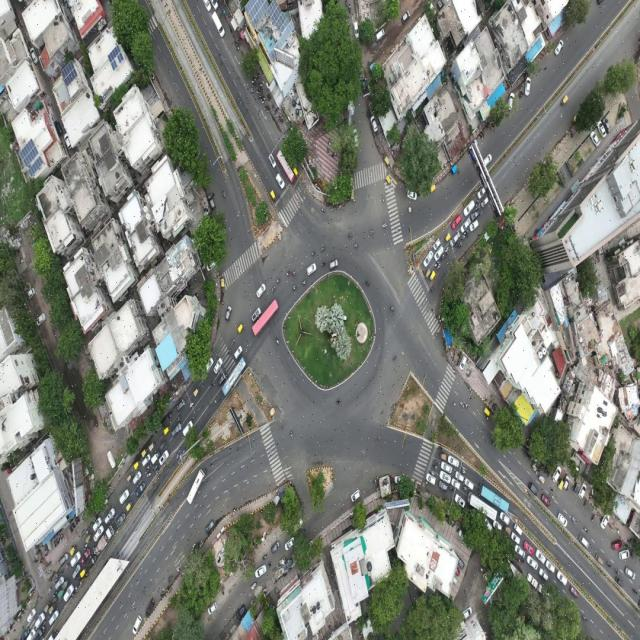3W: (592, 551, 606, 568), (383, 151, 392, 174), (502, 522, 513, 538), (558, 94, 570, 108), (61, 576, 71, 592), (78, 564, 88, 580), (84, 530, 94, 546), (235, 321, 246, 335), (125, 498, 134, 514), (148, 439, 157, 455), (268, 187, 277, 203), (572, 110, 581, 126), (571, 479, 580, 495), (70, 543, 81, 556), (427, 182, 438, 195), (437, 450, 448, 463), (47, 602, 57, 616), (291, 164, 301, 178), (140, 446, 149, 461), (450, 162, 459, 177), (125, 471, 135, 484), (158, 438, 168, 451), (429, 269, 437, 285), (133, 457, 142, 471), (443, 231, 452, 244), (44, 600, 52, 614), (481, 406, 491, 417), (56, 588, 65, 600), (384, 174, 393, 186), (425, 264, 431, 282), (163, 424, 171, 437), (557, 478, 564, 491), (192, 387, 201, 397), (221, 274, 226, 291)
Bus: (248, 294, 282, 341), (218, 350, 248, 403), (478, 476, 510, 515), (466, 487, 498, 524), (184, 464, 206, 510), (274, 147, 296, 186)
Cars: (454, 493, 469, 515), (576, 530, 590, 551), (462, 198, 477, 217), (348, 486, 363, 505), (116, 488, 130, 508), (522, 538, 536, 558), (624, 564, 638, 583), (422, 246, 434, 268), (62, 583, 75, 603), (451, 477, 466, 494), (556, 568, 568, 589), (131, 614, 142, 636), (105, 506, 117, 526), (274, 170, 286, 190), (553, 37, 565, 57), (596, 119, 608, 139), (600, 508, 610, 532), (498, 509, 512, 526), (157, 449, 170, 467), (450, 212, 463, 230), (183, 419, 194, 440), (145, 597, 156, 618), (351, 127, 361, 150), (506, 90, 516, 113), (93, 523, 105, 542), (545, 559, 557, 578), (538, 563, 550, 582), (525, 554, 539, 570), (557, 509, 568, 529), (48, 608, 60, 626), (250, 306, 262, 324), (255, 282, 267, 300), (351, 16, 360, 40), (399, 8, 411, 26), (449, 230, 461, 248), (458, 352, 468, 373), (577, 480, 587, 501), (438, 469, 452, 484), (541, 491, 552, 510), (34, 624, 47, 640), (374, 27, 387, 43), (617, 546, 630, 562), (359, 72, 368, 95), (460, 217, 472, 234), (433, 245, 445, 262), (534, 547, 546, 564), (510, 530, 522, 547), (207, 191, 217, 211), (369, 114, 379, 134), (552, 465, 562, 485), (80, 547, 91, 565), (115, 512, 126, 530), (214, 354, 223, 376), (283, 538, 297, 552), (254, 564, 267, 579), (305, 262, 318, 277), (70, 550, 82, 566), (170, 422, 182, 438), (406, 186, 418, 202), (589, 132, 601, 148), (568, 584, 580, 600), (448, 453, 460, 469), (425, 471, 437, 487), (204, 355, 214, 374), (602, 115, 612, 134), (26, 606, 37, 623), (482, 151, 493, 168), (468, 219, 481, 233), (610, 538, 623, 552), (514, 544, 527, 558), (454, 470, 467, 484), (93, 514, 103, 532), (217, 371, 227, 389), (271, 538, 281, 556), (223, 305, 233, 323), (514, 521, 524, 539), (441, 459, 453, 474), (35, 612, 46, 628), (54, 574, 65, 590), (59, 552, 70, 568), (207, 601, 218, 617), (528, 481, 539, 497), (136, 481, 146, 498), (476, 186, 488, 200), (480, 196, 492, 210), (437, 478, 449, 492), (464, 477, 475, 492), (268, 152, 277, 170), (132, 470, 142, 486), (205, 519, 215, 535), (237, 604, 247, 620), (433, 236, 443, 252), (19, 626, 30, 640), (87, 554, 98, 568), (524, 76, 531, 97), (563, 473, 570, 494), (25, 628, 37, 640), (72, 564, 81, 580), (470, 209, 481, 222), (492, 518, 503, 531), (141, 453, 151, 467), (177, 398, 186, 413), (202, 0, 212, 13), (328, 258, 338, 271), (234, 346, 242, 360), (210, 0, 219, 11)
LCV: (208, 10, 227, 42), (526, 572, 539, 590), (151, 450, 161, 466)
M2W: (334, 393, 343, 409), (390, 351, 399, 364), (362, 276, 371, 288), (388, 301, 396, 314), (629, 587, 639, 596), (589, 512, 596, 524), (287, 427, 294, 439), (261, 550, 268, 562), (380, 220, 388, 230), (459, 466, 467, 476), (463, 398, 469, 411), (352, 239, 359, 250), (431, 460, 438, 471), (187, 401, 195, 410), (318, 243, 326, 252), (461, 484, 469, 493), (209, 380, 216, 390), (369, 228, 376, 238), (394, 225, 401, 235), (614, 566, 621, 576), (270, 283, 276, 294), (463, 226, 469, 237), (519, 554, 525, 565), (449, 483, 455, 494), (435, 456, 441, 467), (174, 415, 182, 423), (285, 268, 292, 277), (309, 248, 316, 257), (434, 259, 441, 268), (35, 548, 41, 558), (65, 561, 71, 571), (70, 589, 76, 599), (291, 283, 297, 293), (348, 230, 354, 240), (429, 284, 435, 294), (459, 399, 465, 409), (571, 515, 577, 525), (438, 442, 444, 452), (627, 536, 634, 544), (275, 335, 280, 346), (222, 189, 227, 200), (475, 198, 480, 209), (52, 596, 58, 605), (83, 542, 89, 551), (85, 526, 91, 535), (167, 411, 173, 420), (230, 337, 236, 346), (275, 276, 281, 285), (249, 86, 255, 95), (436, 263, 442, 272), (583, 526, 589, 535), (266, 560, 272, 569), (74, 582, 79, 592), (292, 268, 297, 278), (518, 83, 523, 93), (466, 230, 471, 240), (546, 470, 551, 480), (152, 464, 159, 471), (454, 241, 461, 248), (549, 493, 556, 500), (52, 590, 58, 598), (48, 582, 52, 594), (84, 572, 90, 580), (88, 552, 94, 560), (146, 472, 152, 480), (146, 462, 152, 470), (227, 348, 233, 356), (302, 277, 308, 285), (321, 259, 327, 267), (444, 246, 450, 254), (606, 560, 612, 568), (623, 541, 629, 549), (424, 478, 429, 487), (144, 468, 151, 474), (154, 469, 160, 476), (162, 422, 168, 429), (251, 76, 257, 83), (55, 570, 59, 580), (40, 557, 45, 565), (479, 131, 483, 141), (458, 241, 463, 249), (526, 449, 530, 459), (544, 465, 548, 475), (53, 540, 57, 549), (266, 105, 270, 114), (520, 92, 524, 101), (460, 234, 466, 240), (54, 578, 59, 585), (257, 95, 264, 100), (444, 252, 449, 259), (583, 498, 588, 505), (430, 469, 435, 476), (60, 568, 64, 576), (533, 458, 537, 466), (234, 46, 240, 51), (274, 106, 277, 116), (322, 208, 327, 214), (78, 576, 82, 583), (256, 87, 260, 94), (440, 255, 444, 262), (541, 463, 545, 470), (61, 533, 64, 542), (262, 96, 265, 105), (256, 84, 260, 90), (260, 81, 264, 87), (524, 447, 526, 457), (56, 537, 58, 546), (538, 466, 541, 472), (59, 535, 60, 545)
Truck: (91, 521, 118, 561)
